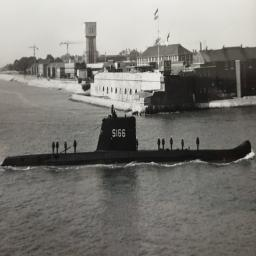submarine: (1, 118, 252, 165)
